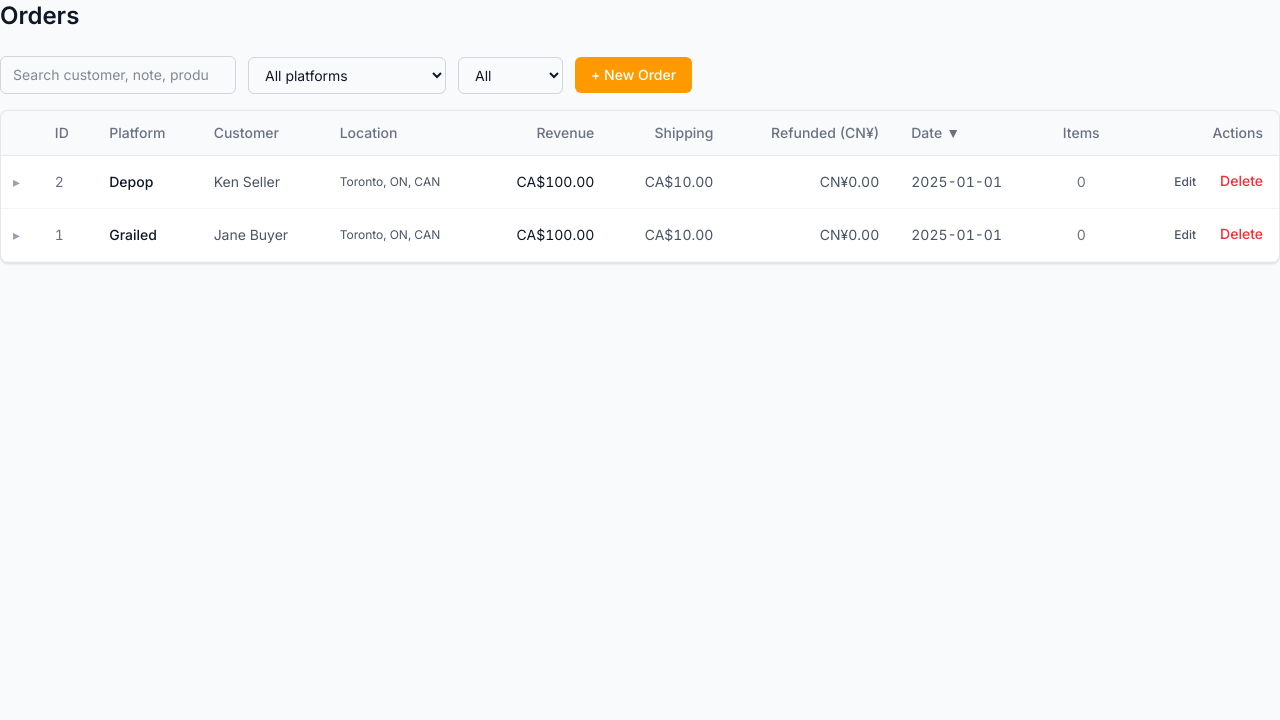
Test case: OrdersPage › opens a New Order drawer
The width and height of the screenshot is (1280, 720).
Expected: the text "Jane Buyer" is shown, [198,208,324,262]
Click the button "+ New Order" at (634,75), box [575,57,692,93]
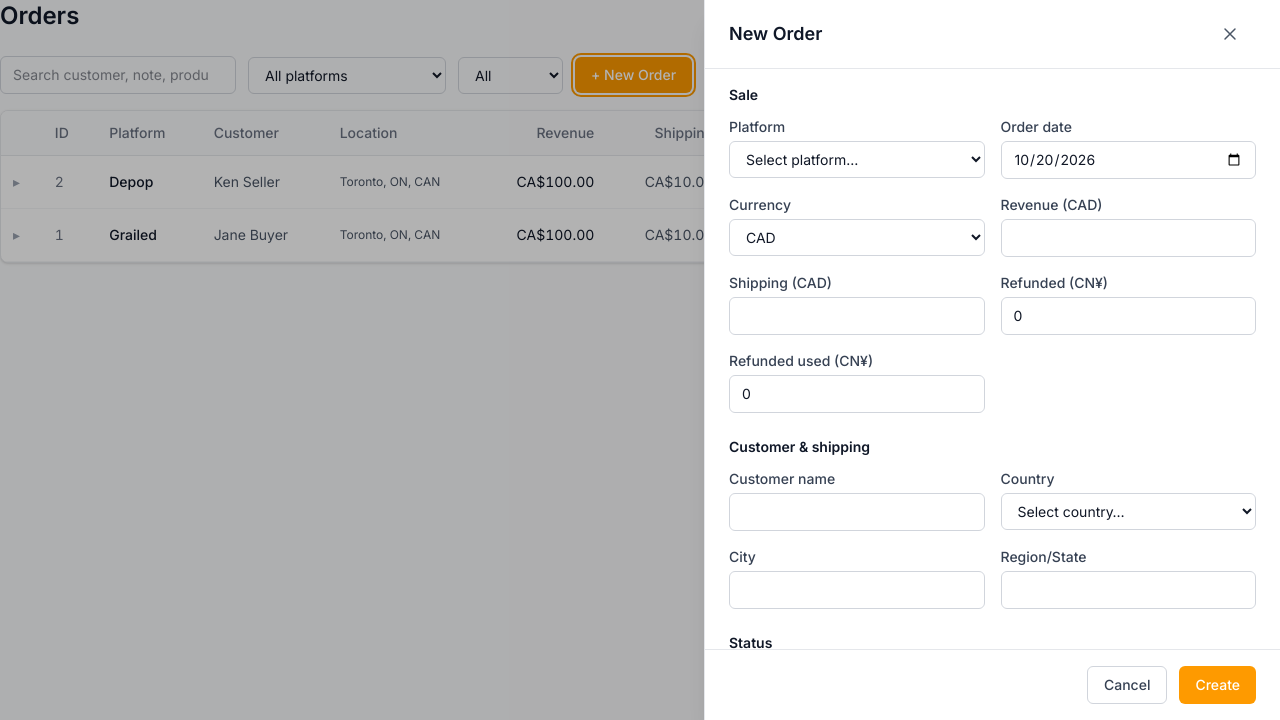
Result: the dialog is shown at [704,0,1279,719]
Result: the heading "New Order" is shown at [729,20,822,48]
